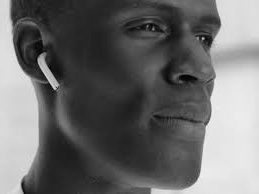earphone: (11, 17, 60, 91)
